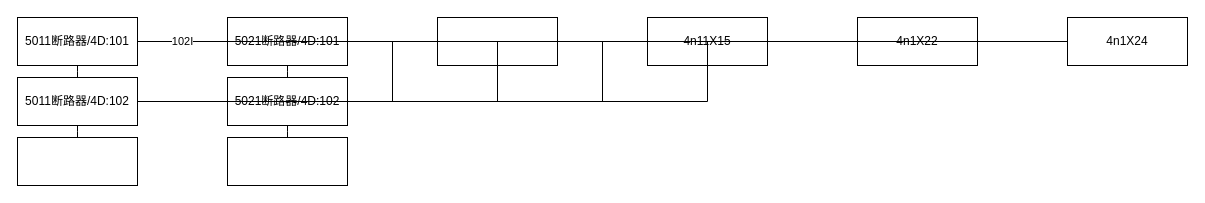
Image size: 1205x203. Some labels were removed from this diagram. Each missing label, with the centre of its shape:
"4DK1:2" goes at (497,41).
"5011断路器/4D:103" goes at (77,161).
"5021断路器/4D:103" goes at (287,161).
